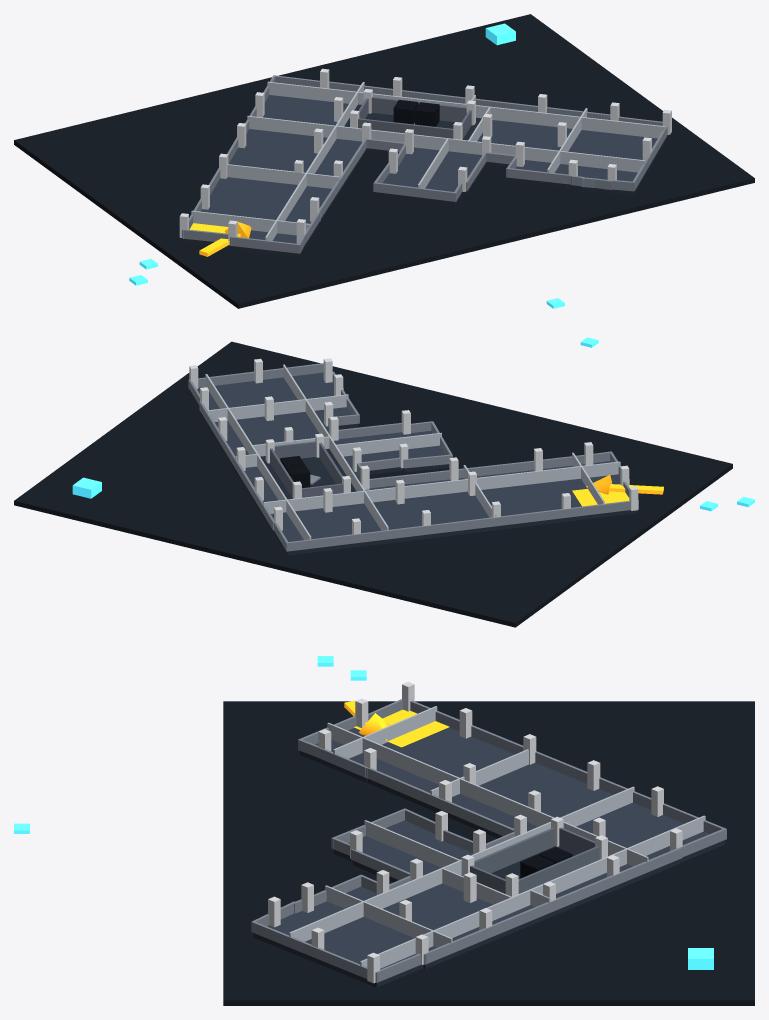
3 views of the same model, one above another, from view 1: azimuth 30°, elevation 25°; view 2: azimuth 150°, elevation 25°; view 3: azimuth 270°, elevation 25° (orthographic). The views are drawn at different scales.
Parts seen in each view (by area): view 1: FireSight 140 New Montgomery St floor 4; view 2: FireSight 140 New Montgomery St floor 4; view 3: FireSight 140 New Montgomery St floor 4.
Part boxes in pixels (<box>): FireSight 140 New Montgomery St floor 4: <box>14,14,754,308</box>; FireSight 140 New Montgomery St floor 4: <box>14,337,754,627</box>; FireSight 140 New Montgomery St floor 4: <box>14,656,754,1005</box>.
Size of the model in its own units: 0.7889 by 0.043 by 0.7372.
